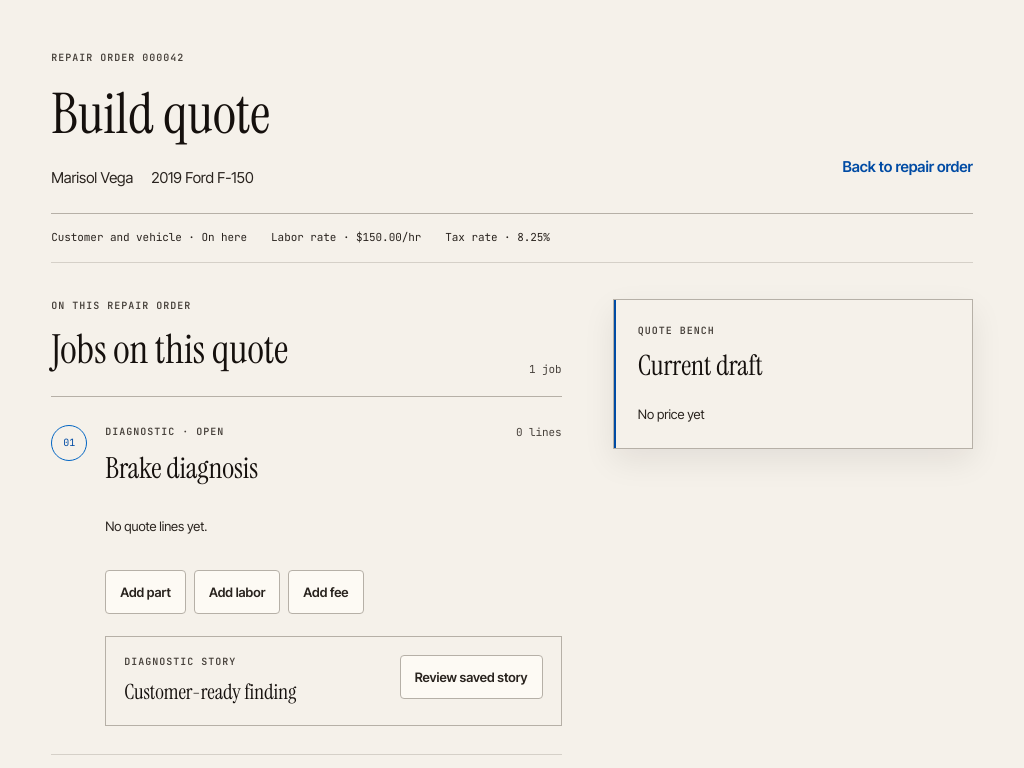
ManualQuoteBuilder › reveals the active line editor directly at its invoking job action
The width and height of the screenshot is (1024, 768).
Click the button "Add part" at [146, 592], box [105,570,186,614]
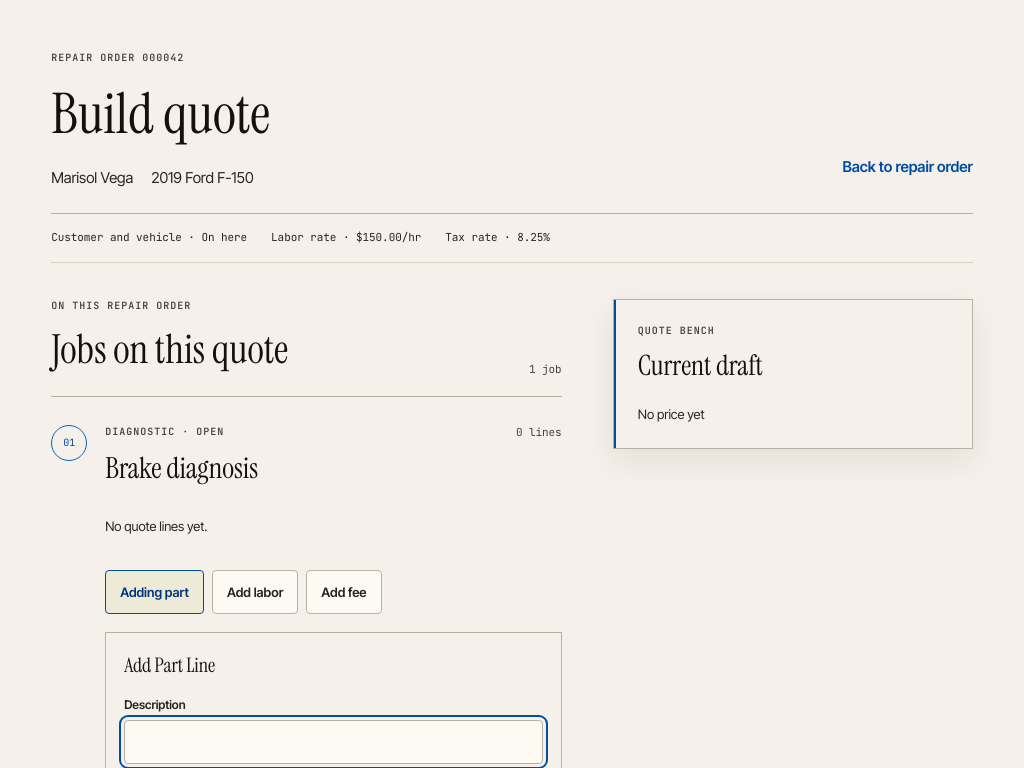
Now the button named "Add part" is expanded, box [105,570,204,614]
